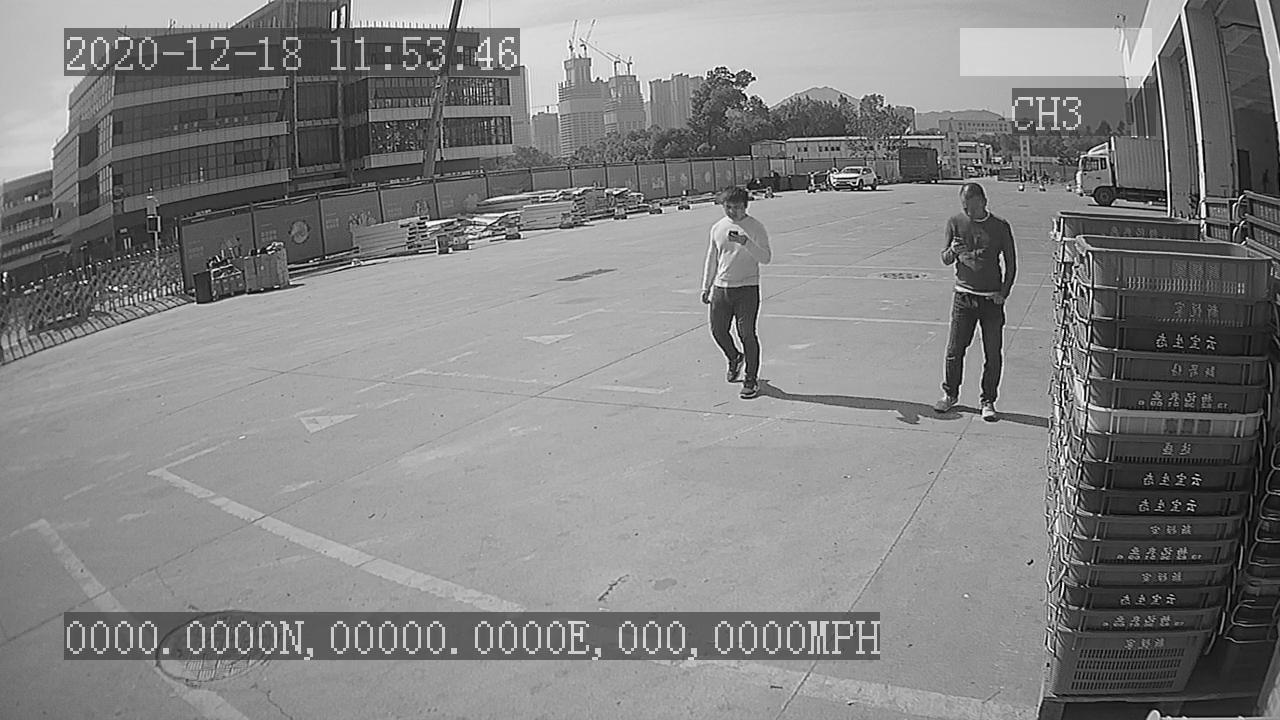person: (924, 181, 1026, 424), (693, 185, 777, 397)
